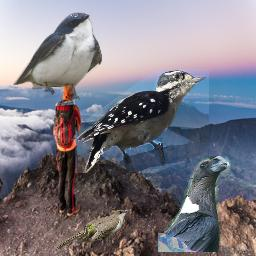Crow: (158, 156, 231, 252)
Cuckoo: (55, 209, 129, 249)
Swallow: (13, 12, 103, 102)
Woodpecker: (75, 69, 209, 173)
